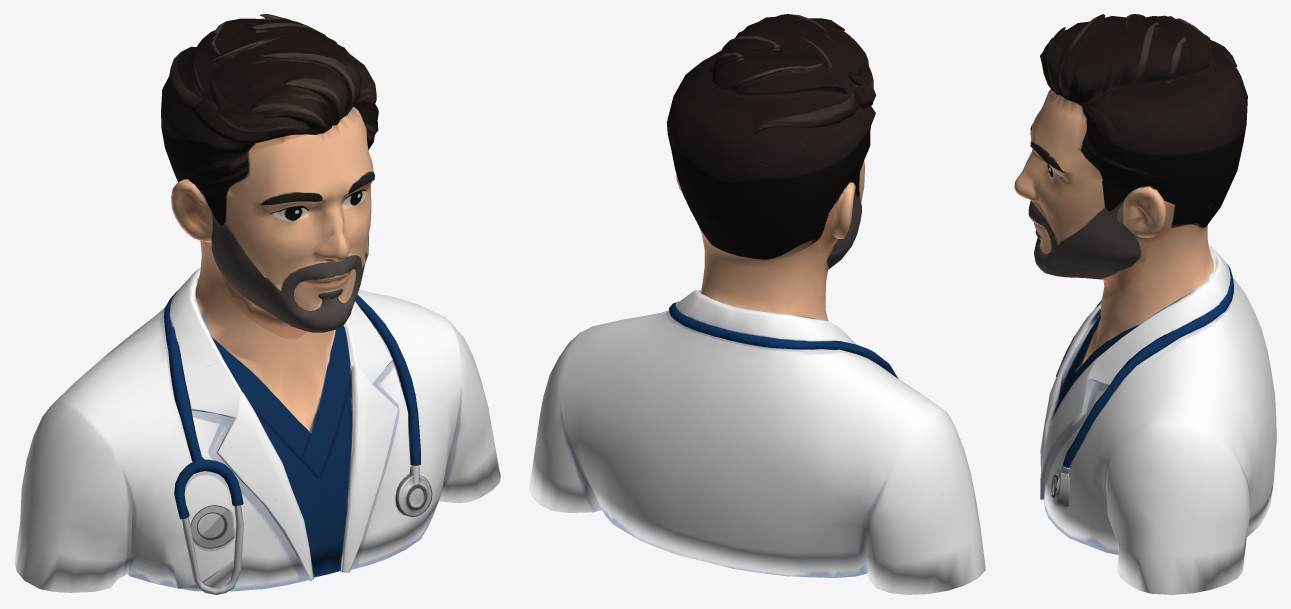
File: health.glb
3 views of the same model, side by side, from view 1: azimuth 30°, elevation 25°; view 2: azimuth 150°, elevation 25°; view 3: azimuth 270°, elevation 25° (orthographic). The views are drawn at different scales.
Bounding box in the file's own units: 0.9155 × 0.9526 × 0.4888.
1 material, 1 textured.
